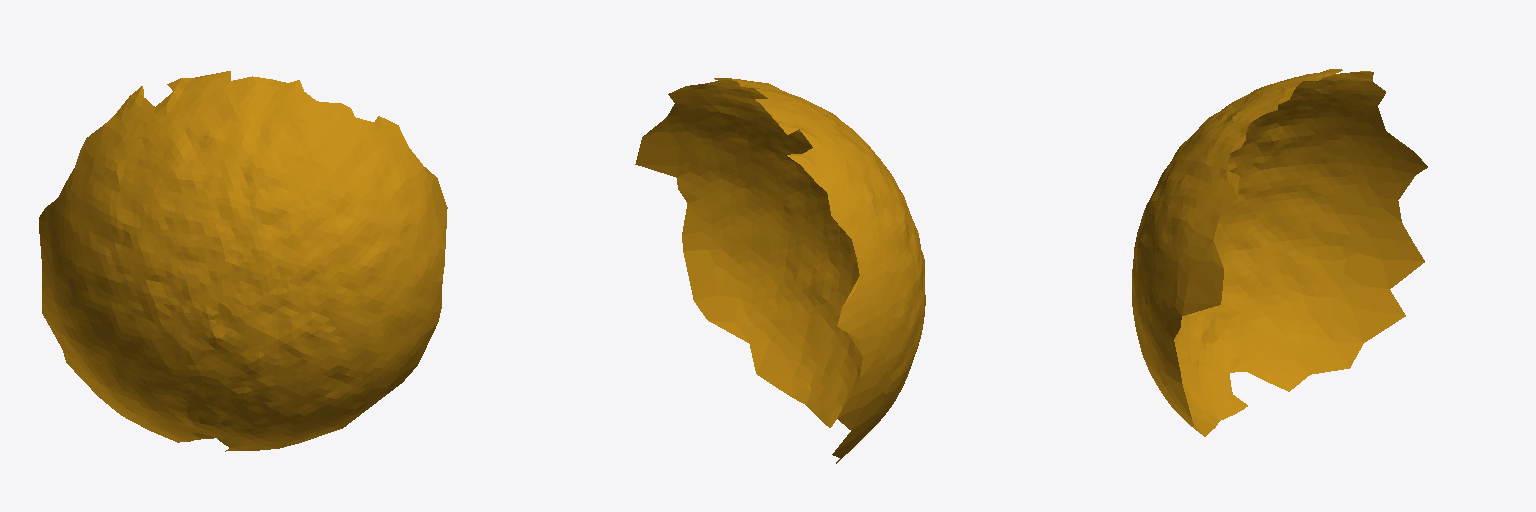
File: LargeSphere_tangential_02.000001.08.obj
3 renders of one model, left to right at view 1: azimuth 30°, elevation 25°; view 2: azimuth 150°, elevation 25°; view 3: azimuth 270°, elevation 25°, orthographic.
Parts seen in each view (by area): view 1: result/LargeSphere_tangential_02.000001.08; view 2: result/LargeSphere_tangential_02.000001.08; view 3: result/LargeSphere_tangential_02.000001.08.
Part boxes in pixels (bbox=[...]): result/LargeSphere_tangential_02.000001.08: bbox=[39, 71, 447, 451]; result/LargeSphere_tangential_02.000001.08: bbox=[635, 78, 925, 463]; result/LargeSphere_tangential_02.000001.08: bbox=[1132, 69, 1427, 436].
Bounding box in the file's own units: 261 × 266 × 207.